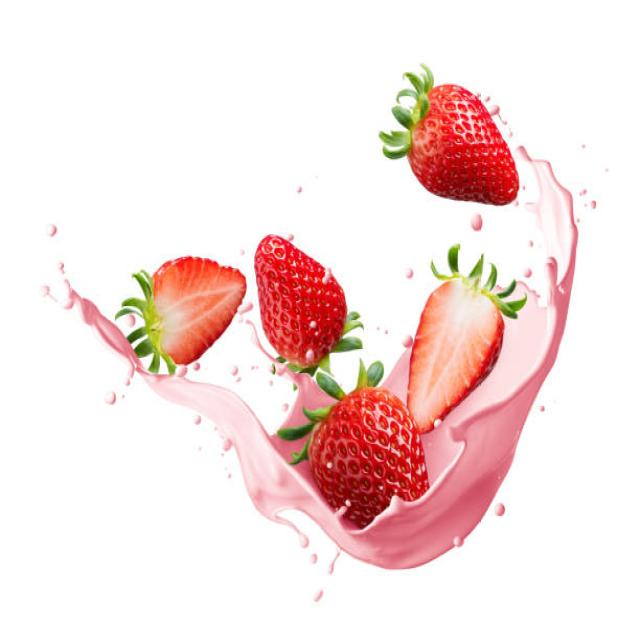Healthy Fruit: (306, 386, 430, 527), (408, 83, 520, 209), (255, 233, 347, 364)
